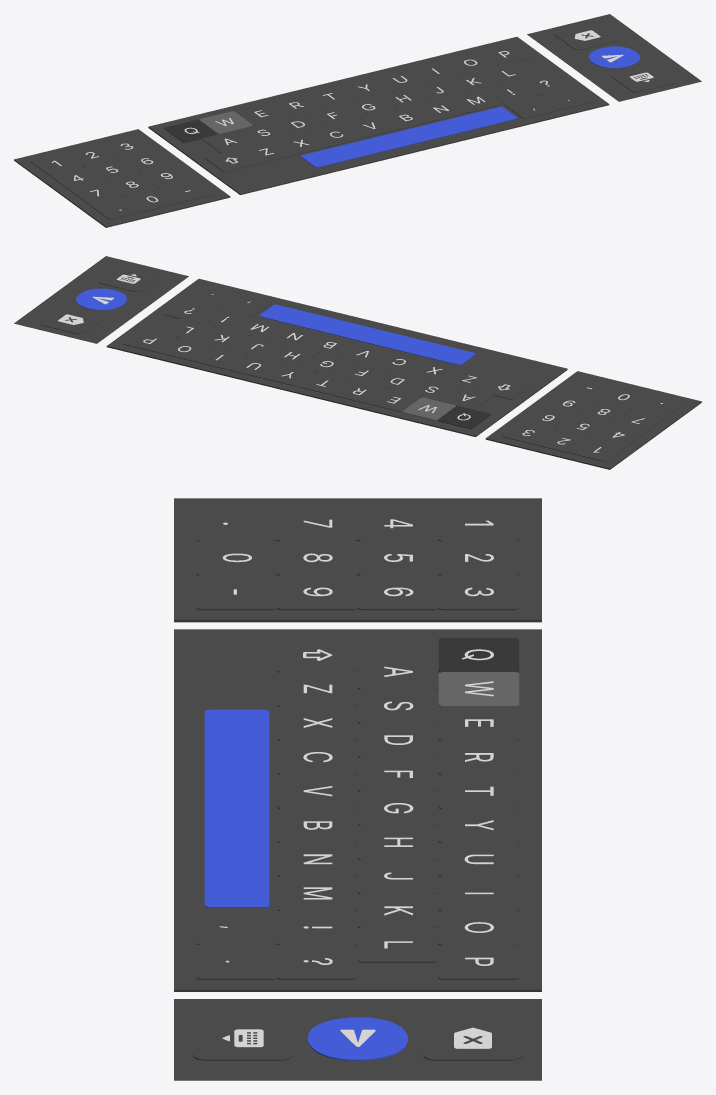
Rendered from Keyboard.fbx.
3 views of the same model, one above another, from view 1: azimuth 30°, elevation 25°; view 2: azimuth 150°, elevation 25°; view 3: azimuth 270°, elevation 25° (orthographic). The views are drawn at different scales.
Parts seen in each view (by area): view 1: Keyboard BG_2, Keyboard BG_3, space, Keyboard BG_1, block.close, block.delete, block.send], block.010, block.,, block.., block.->, block.012 (+38 smaller); view 2: Keyboard BG_2, Keyboard BG_3, space, Keyboard BG_1, block.close, block.delete, block.send], block.001, block.002, block.Q, block.i, block., (+38 smaller); view 3: Keyboard BG_2, Keyboard BG_3, space, Keyboard BG_1, block.close, block.delete, block.send], block.., block.012, block.p, block.l, block.003 (+38 smaller).
Boxes of the visible parts, left/top/right/bottom form: Keyboard BG_2: left=148, top=37, right=609, bottom=194; Keyboard BG_3: left=527, top=14, right=701, bottom=101; space: left=300, top=106, right=517, bottom=167; Keyboard BG_1: left=14, top=129, right=230, bottom=227; block.close: left=611, top=65, right=674, bottom=92; block.delete: left=554, top=22, right=617, bottom=50; block.send]: left=588, top=46, right=640, bottom=68; block.010: left=91, top=196, right=144, bottom=219; block.,: left=504, top=95, right=557, bottom=118; block..: left=539, top=87, right=592, bottom=110; block.->: left=205, top=149, right=258, bottom=172; block.012: left=160, top=179, right=213, bottom=202; Keyboard BG_2: left=106, top=279, right=567, bottom=436; Keyboard BG_3: left=14, top=256, right=188, bottom=343; space: left=259, top=304, right=475, bottom=365; Keyboard BG_1: left=485, top=371, right=701, bottom=469; block.close: left=98, top=264, right=161, bottom=291; block.delete: left=41, top=307, right=104, bottom=334; block.send]: left=76, top=288, right=126, bottom=310; block.001: left=572, top=438, right=624, bottom=461; block.002: left=537, top=430, right=589, bottom=453; block.Q: left=437, top=406, right=490, bottom=428; block.i: left=193, top=346, right=246, bottom=369; block.,: left=218, top=293, right=271, bottom=316; Keyboard BG_2: left=174, top=629, right=541, bottom=991; Keyboard BG_3: left=174, top=999, right=541, bottom=1080; space: left=204, top=709, right=269, bottom=907; Keyboard BG_1: left=174, top=498, right=541, bottom=622; block.close: left=192, top=1017, right=293, bottom=1060; block.delete: left=422, top=1017, right=523, bottom=1060; block.send]: left=307, top=1017, right=408, bottom=1060; block..: left=196, top=944, right=277, bottom=979; block.012: left=196, top=575, right=277, bottom=610; block.p: left=438, top=944, right=519, bottom=979; block.l: left=358, top=927, right=438, bottom=962; block.003: left=438, top=575, right=519, bottom=610.
Size of the model in its own units: 130 by 34.76 by 0.388.
